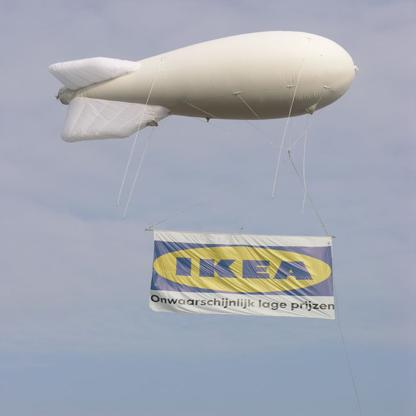Airship: (37, 28, 360, 151)
